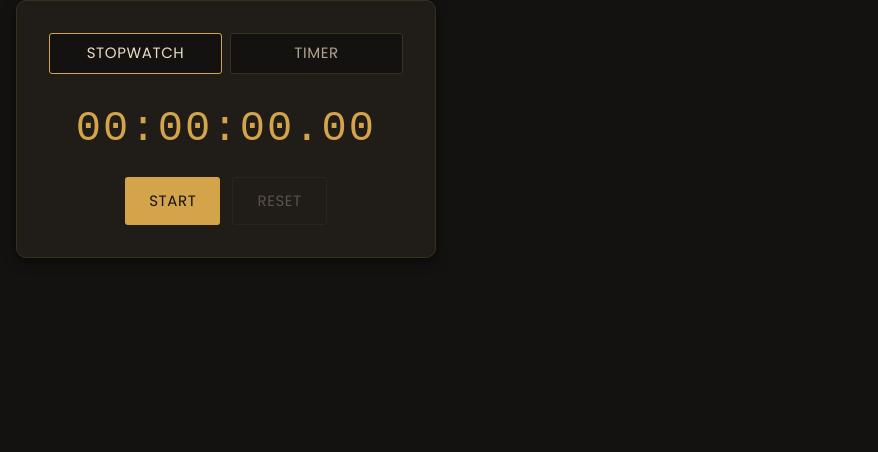
Test: Stopwatch — timer mode › reset returns to the configured duration, not zero
Click the tab "Timer" at (316, 53), box [230,33,403,74]
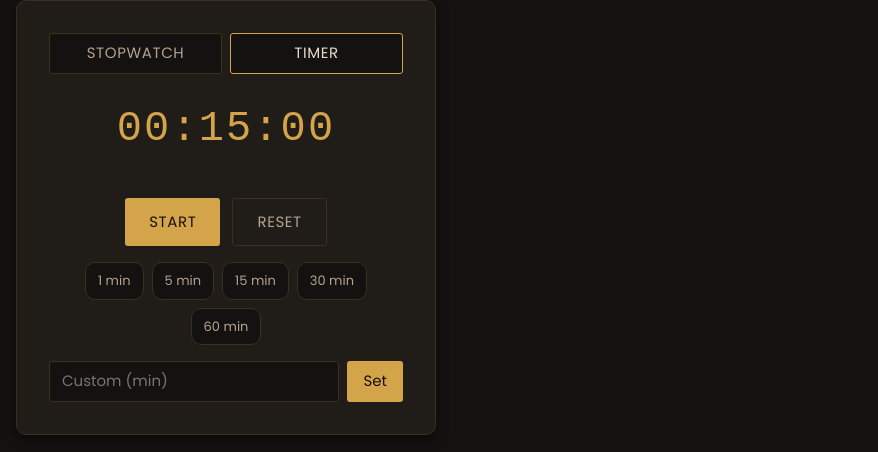
Click the button "5 min" at (183, 281), box [152,262,214,300]
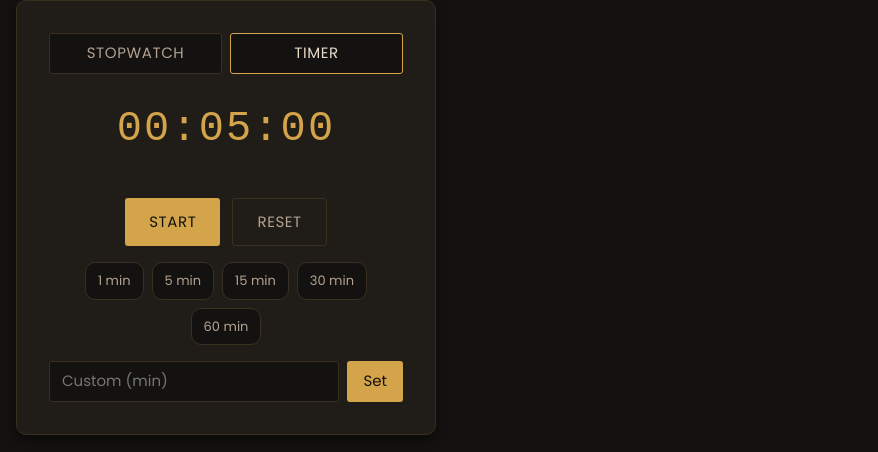
Click the button "Start" at (173, 222), box [125,198,220,246]
Wait 60000 ms
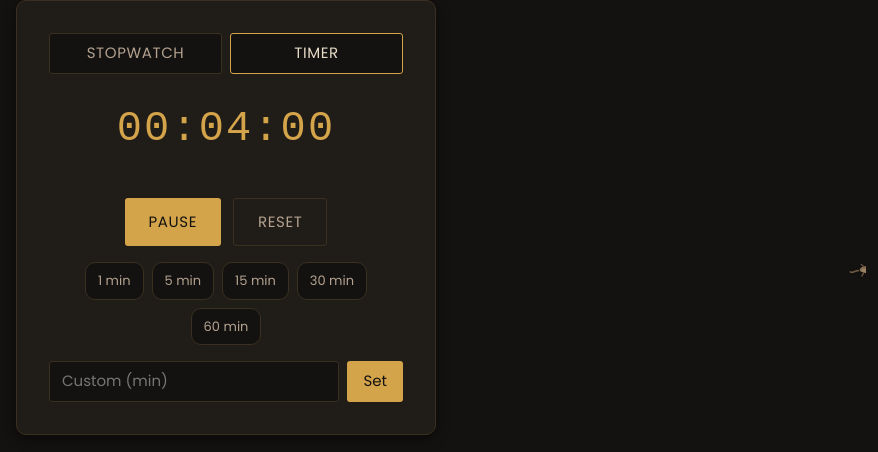
Click the button "Reset" at (280, 222), box [233,198,327,246]
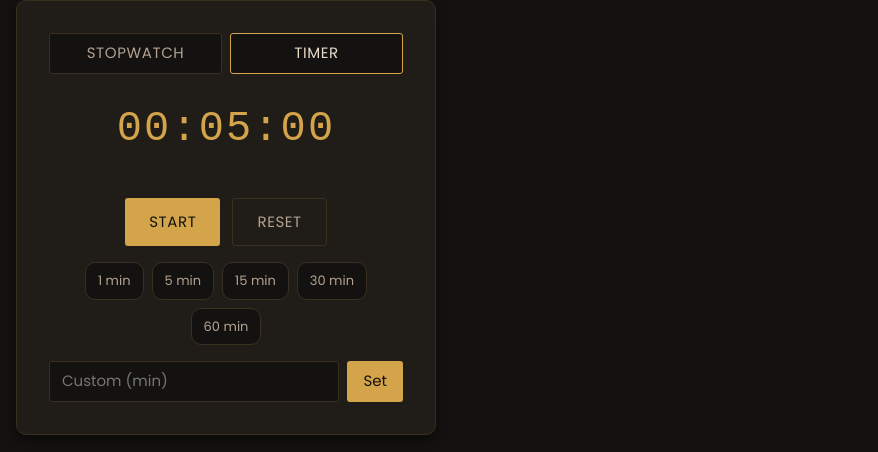
Check: the text with class "stopwatch-display" reads "00:05:00", box [117,104,335,152]
